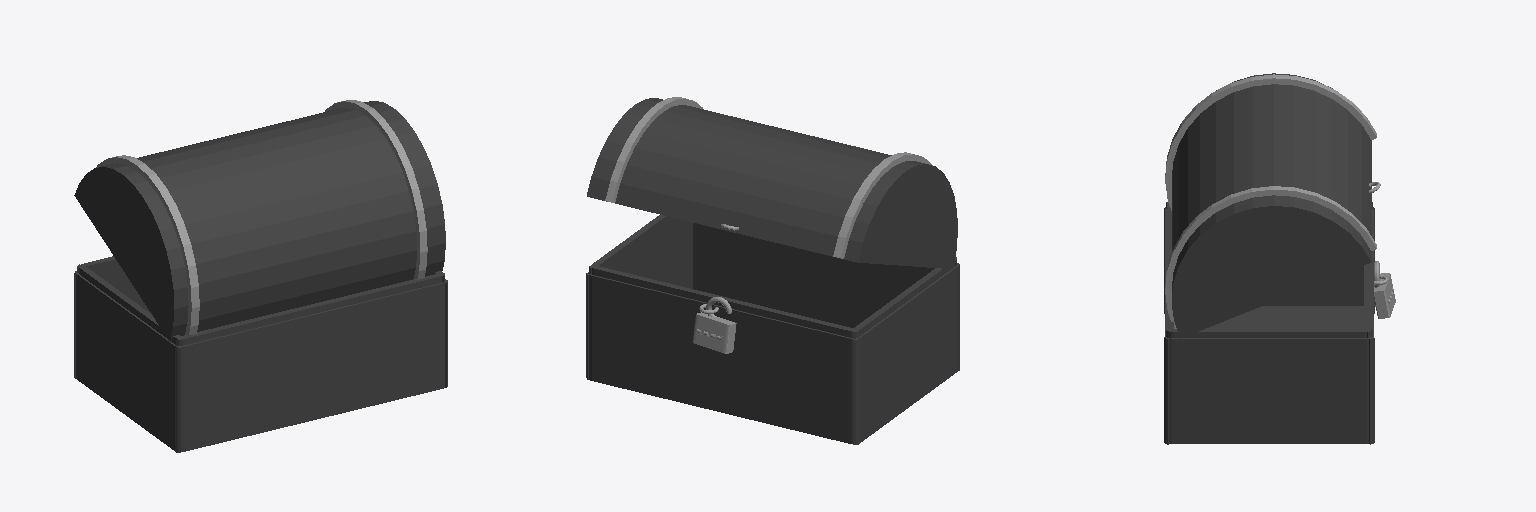
Rendered from Bauleapertocontexturefinal2.obj.
3 renders of one model, left to right at view 1: azimuth 30°, elevation 25°; view 2: azimuth 150°, elevation 25°; view 3: azimuth 270°, elevation 25°, orthographic.
Visible parts, largest first — view 1: Cylinder, Cube; view 2: Cube, Cylinder, Cube.001; view 3: Cylinder, Cube, Cube.001.
Boxes of the visible parts, x1=… form: Cylinder: x1=74, y1=100, x2=445, y2=341; Cube: x1=74, y1=256, x2=447, y2=452; Cube: x1=586, y1=215, x2=959, y2=444; Cylinder: x1=587, y1=97, x2=957, y2=268; Cube.001: x1=693, y1=312, x2=736, y2=353; Cylinder: x1=1165, y1=73, x2=1376, y2=338; Cube: x1=1164, y1=202, x2=1374, y2=444; Cube.001: x1=1374, y1=273, x2=1395, y2=318.
Size of the model in its own units: 3.01 by 2.58 by 2.22.